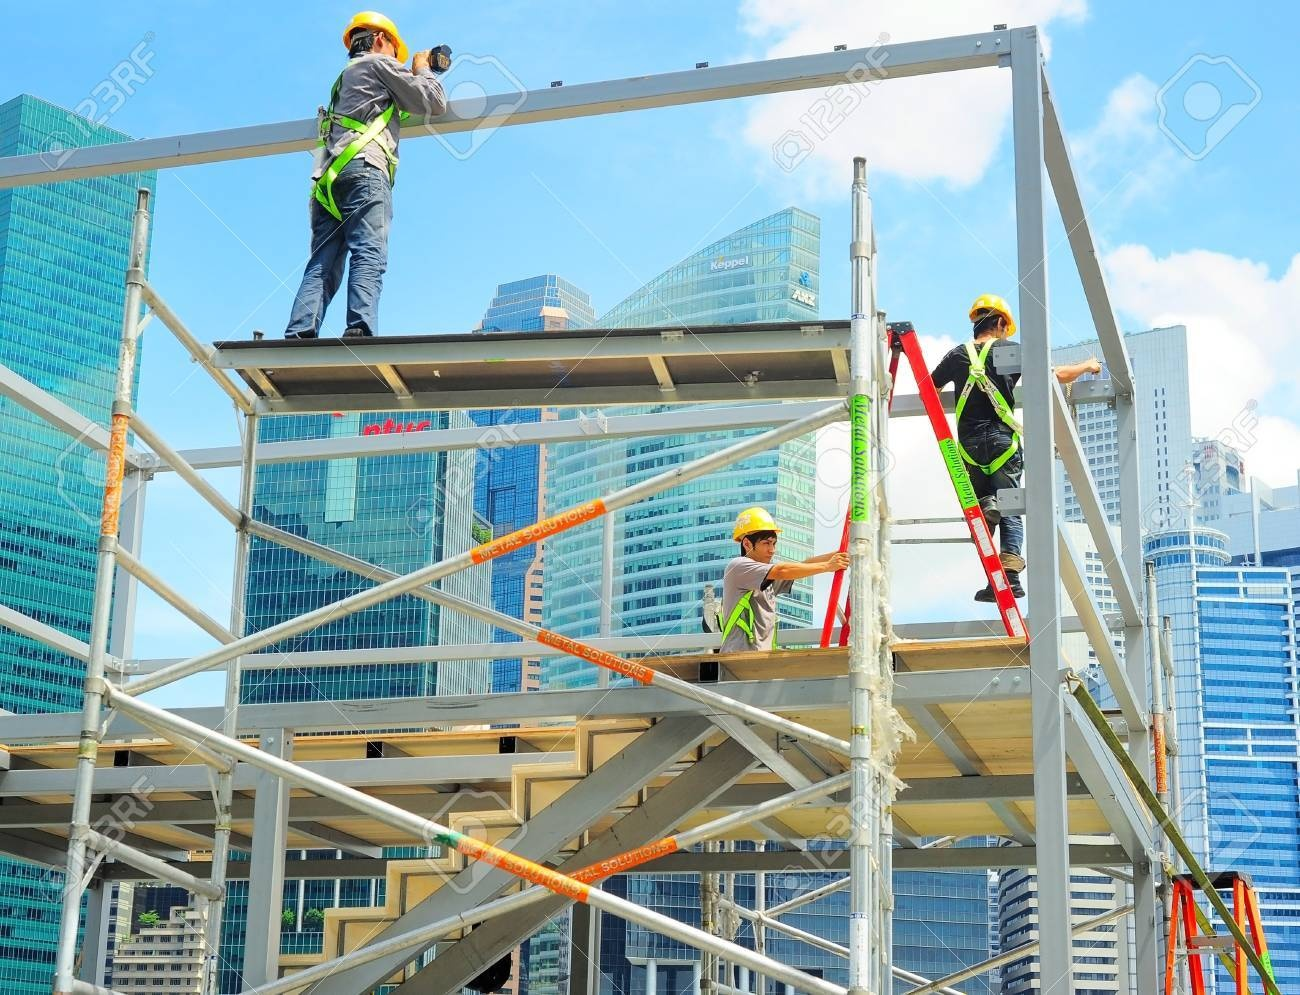yellow: (340, 11, 404, 70), (734, 508, 777, 566), (967, 297, 1014, 346)
